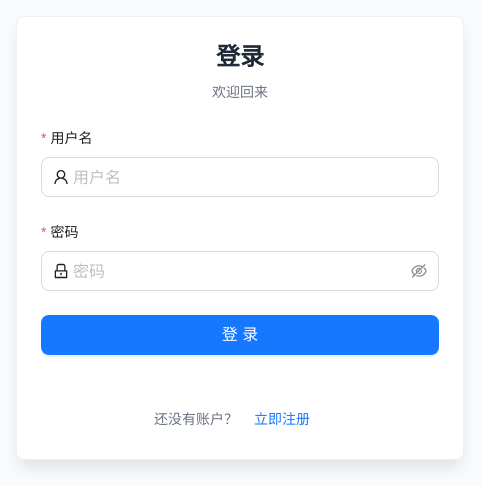
it: LoginForm › shows validation errors for empty fields
Click the button with test id "submit-button" at (240, 335), box [41,315,439,355]
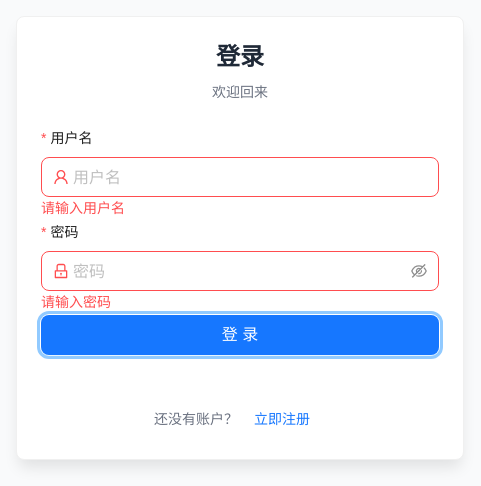
Check: the text "请输入用户名" is shown, box [41,199,125,216]
Check: the text "请输入密码" is shown, box [41,293,111,310]
